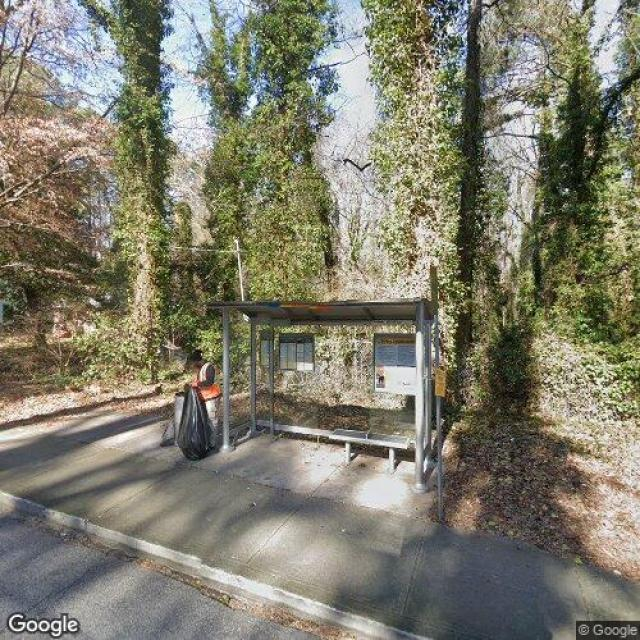seating: (330, 428, 410, 472)
shelter: (206, 298, 433, 497)
trash_can: (174, 390, 220, 446)
